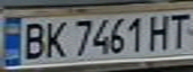1: (124, 15, 148, 53)
4: (90, 16, 112, 56)
6: (109, 16, 130, 55)
7: (69, 17, 93, 57)
B: (18, 19, 48, 61)
H: (145, 11, 175, 52)
K: (39, 18, 69, 58)
T: (163, 10, 193, 49)
